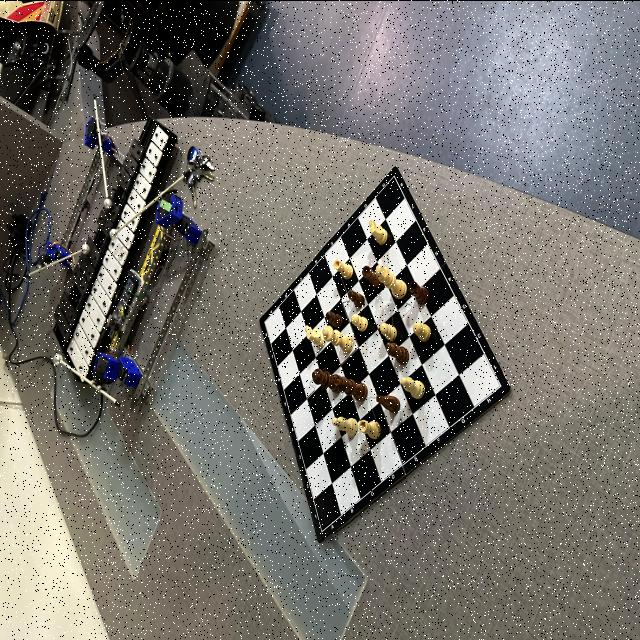Black-Bishop: (386, 341, 410, 364)
Black-King: (333, 376, 368, 400)
Black-Knight: (376, 394, 401, 413)
Black-Pawn: (326, 310, 342, 328), (348, 289, 364, 307)
Black-Queen: (312, 368, 342, 392)
Black-Rook: (408, 280, 429, 304)
White-Bishop: (401, 376, 425, 398), (332, 415, 358, 435)
White-King: (376, 264, 408, 298)
White-Knight: (368, 218, 388, 244), (304, 324, 326, 347)
White-Pawn: (413, 321, 431, 341), (380, 322, 398, 341), (352, 313, 368, 331)
White-Queen: (322, 324, 353, 352)
White-Rook: (362, 264, 382, 288), (359, 418, 381, 438), (334, 258, 354, 278)
